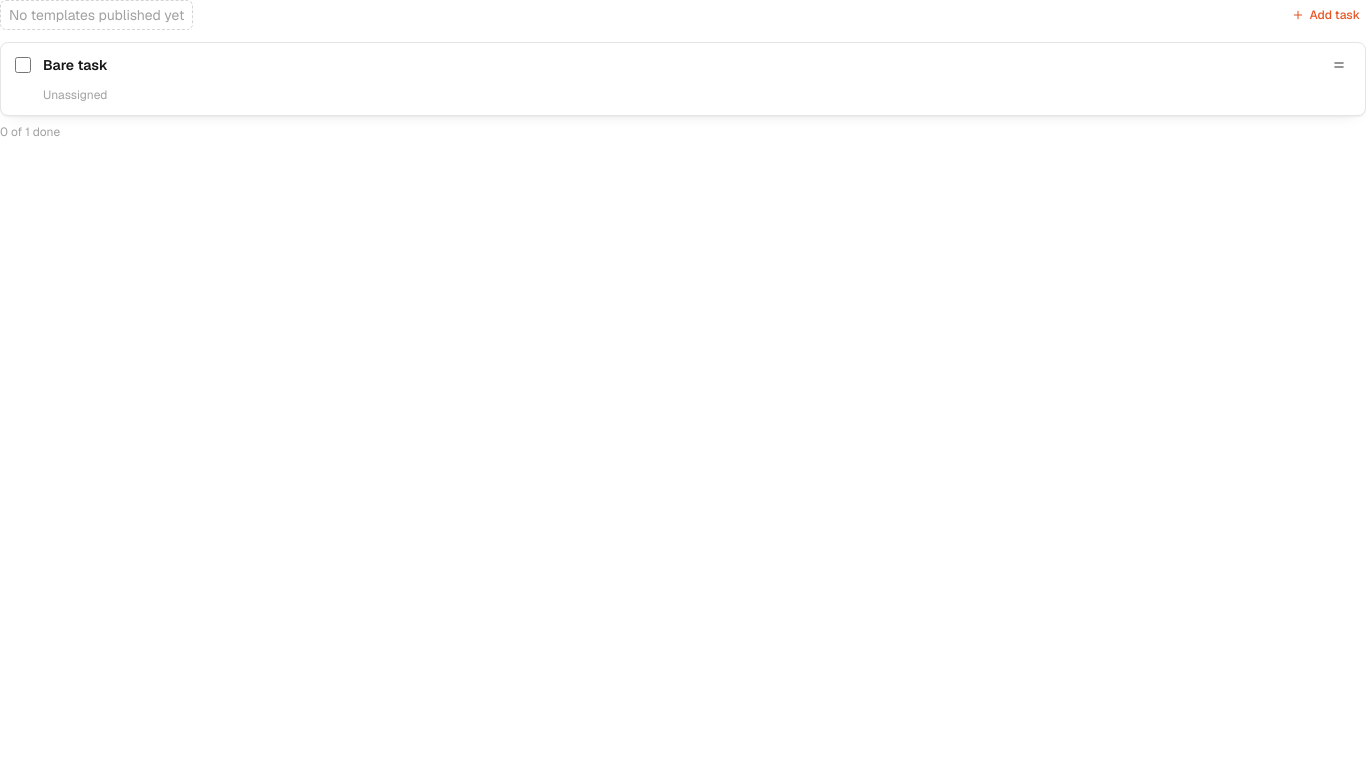
Test: the workflow’s tasks › the panel names an absent value rather than leaving it blank
Click the button with aria-label "Open task: Bare task": (75, 65) [39,51,1319,107]
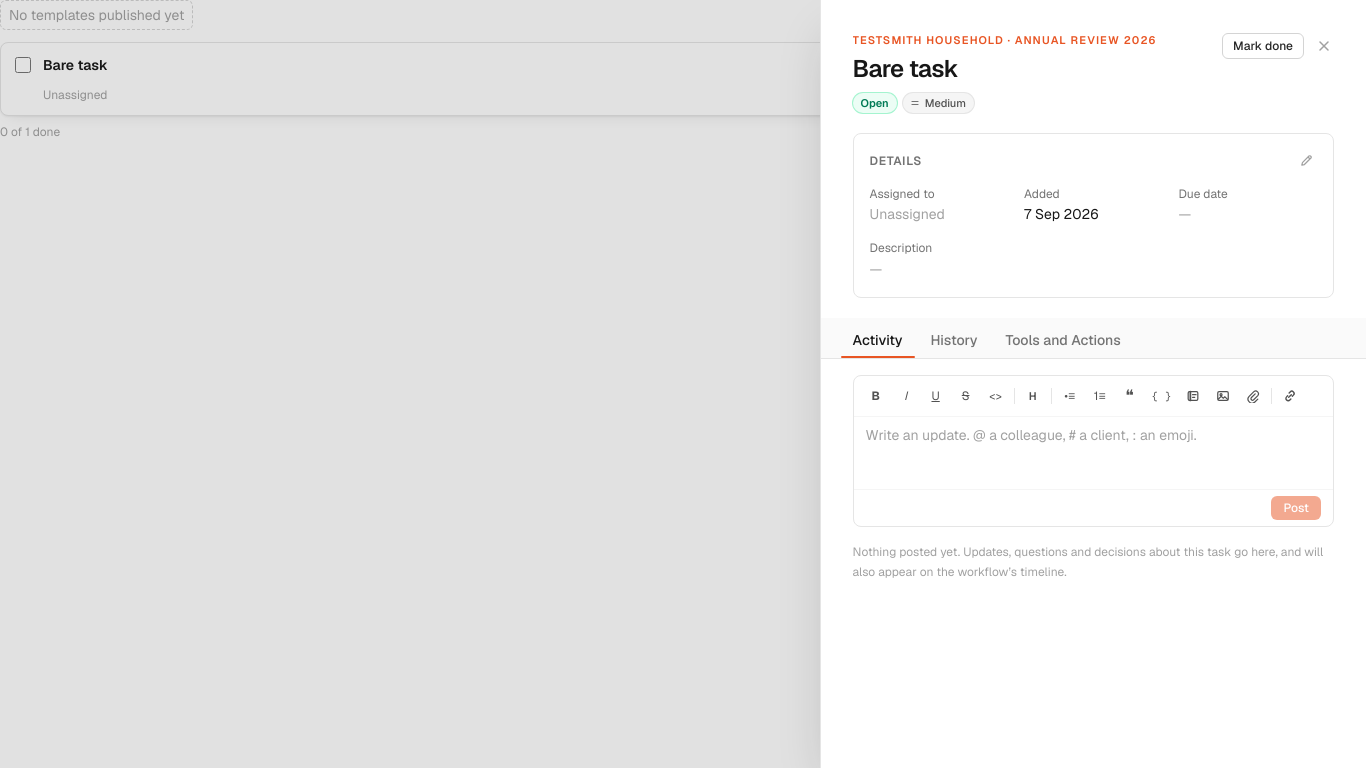
Now the dialog shows "Unassigned", box [870,204,945,222]
